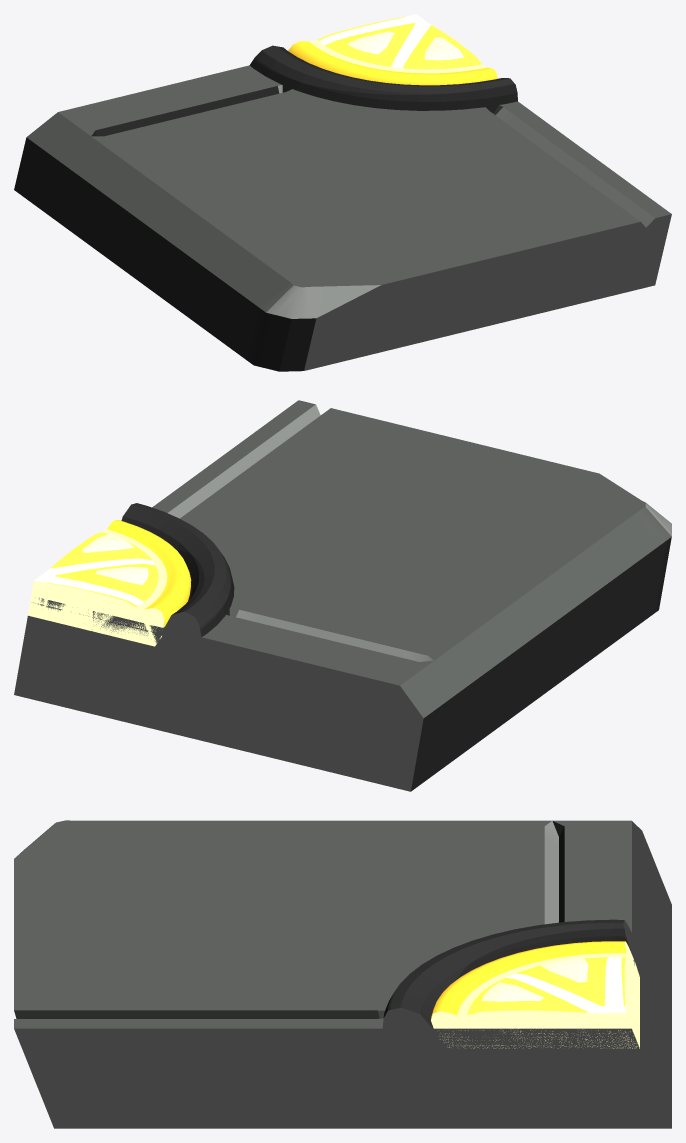
The model's file is pineapple_191.glb.
3 views of the same model, one above another, from view 1: azimuth 30°, elevation 25°; view 2: azimuth 150°, elevation 25°; view 3: azimuth 270°, elevation 25° (orthographic). The views are drawn at different scales.
Visible parts, largest first — view 1: pineapple_191; view 2: pineapple_191; view 3: pineapple_191.
Boxes of the visible parts, bbox=[...] form: pineapple_191: bbox=[14, 14, 671, 371]; pineapple_191: bbox=[14, 400, 671, 791]; pineapple_191: bbox=[14, 820, 671, 1128].
Size of the model in its own units: 24 by 6.21 by 29.82.
